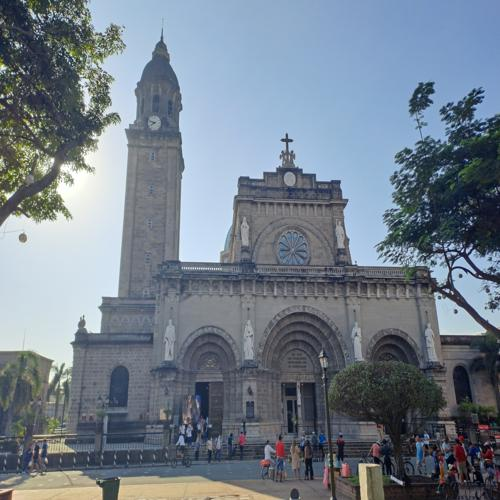Manila Cathedral Church: (60, 11, 482, 454)
